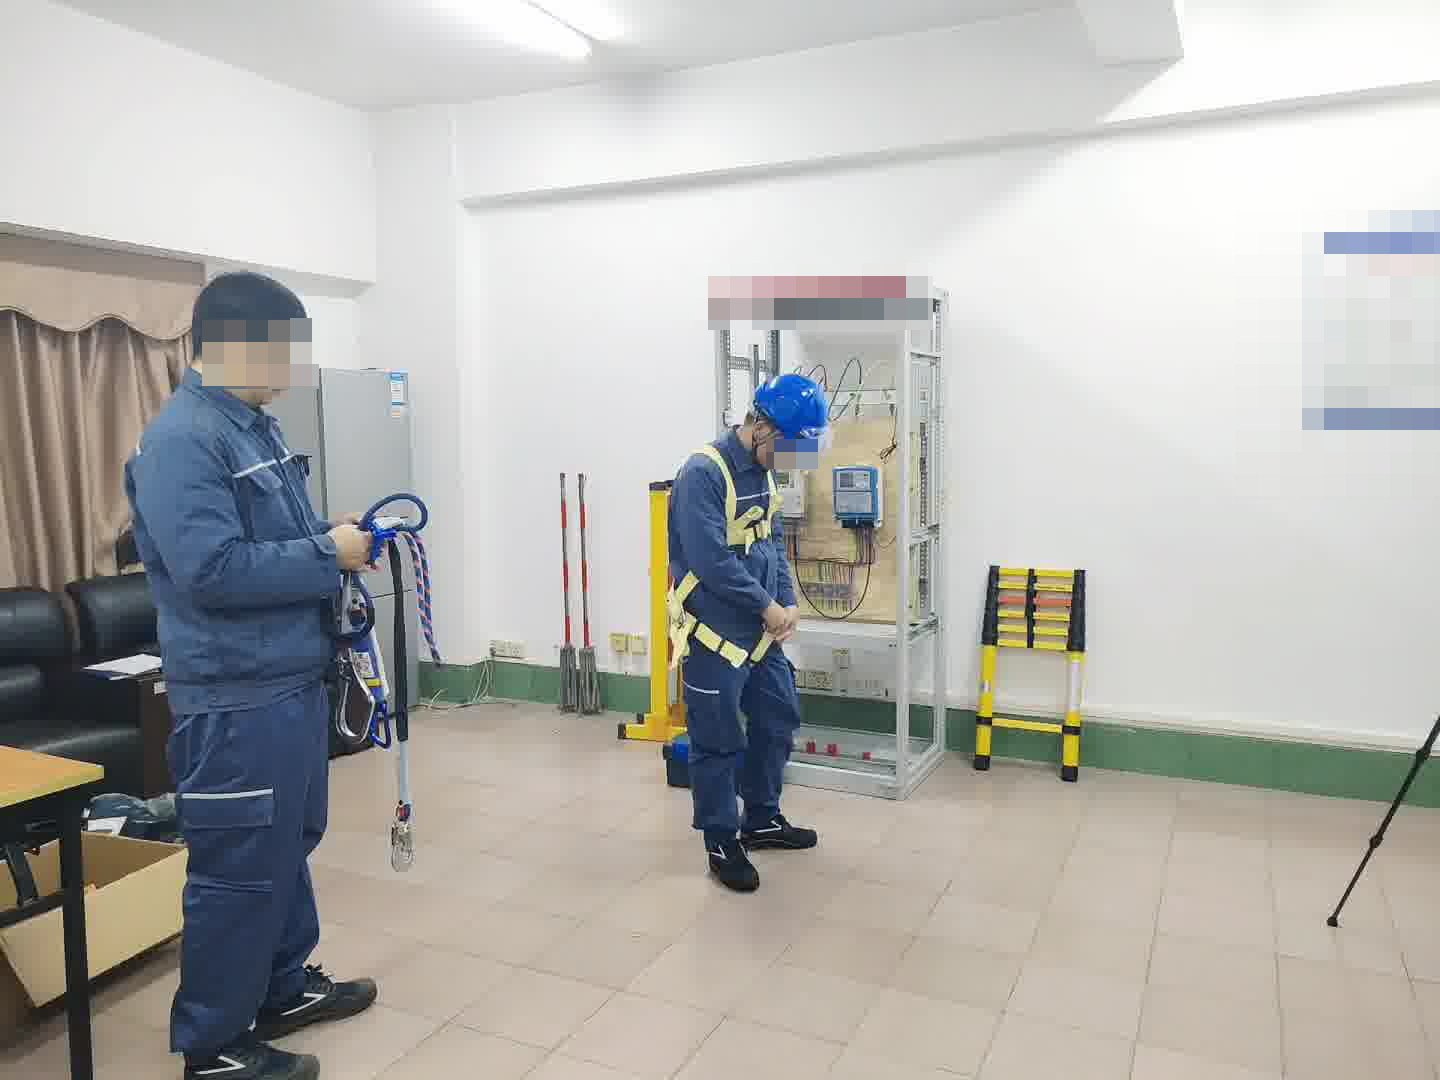downsuit: (167, 710, 337, 1057), (681, 653, 801, 835)
halt: (753, 371, 832, 470)
hand: (330, 519, 374, 575), (764, 603, 799, 639)
inear: (745, 404, 783, 455)
noear: (205, 309, 263, 390)
person: (113, 264, 386, 1080), (665, 369, 833, 885)
safebelt: (665, 438, 792, 677)
unhalt: (186, 270, 311, 405)
upsuit: (121, 375, 336, 685), (668, 428, 787, 622)
